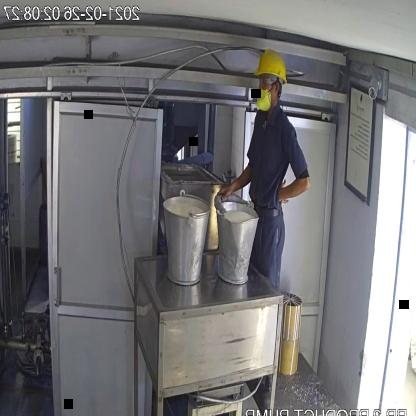helmet: (246, 43, 294, 90)
